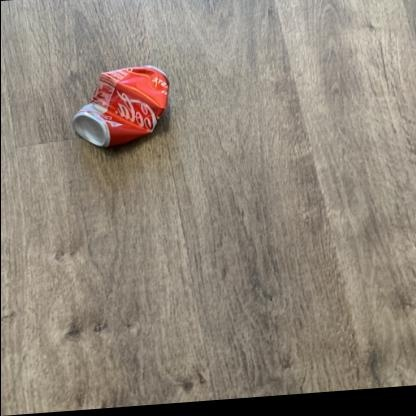trash: (72, 66, 168, 146)
